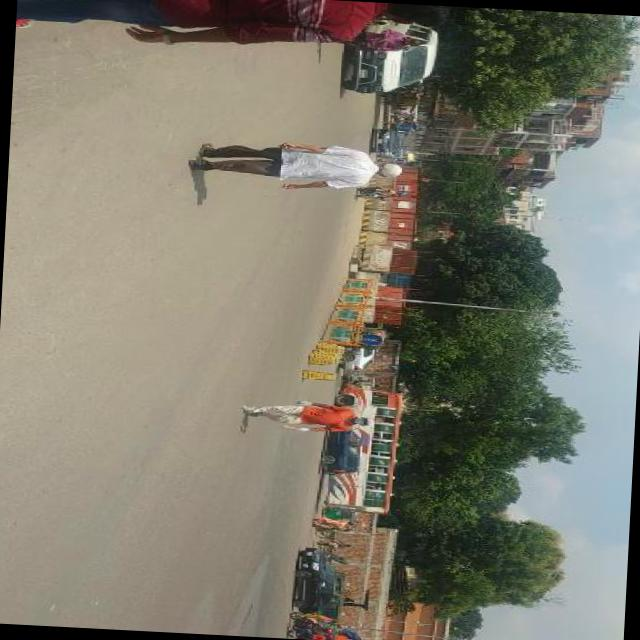bus: (331, 384, 406, 421)
car: (296, 548, 336, 617), (321, 432, 362, 478), (340, 355, 375, 377), (374, 130, 404, 154)
motorcycle: (285, 613, 322, 640), (354, 187, 406, 204), (376, 93, 419, 109), (356, 334, 383, 351), (325, 551, 352, 567), (360, 326, 386, 341), (382, 122, 416, 133)
truck: (345, 17, 439, 99)
